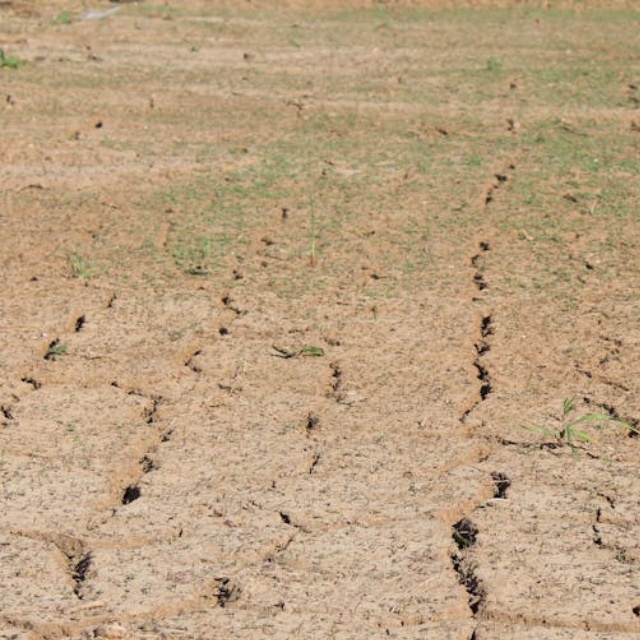细微裂纹: (430, 150, 536, 464), (416, 463, 524, 640)
